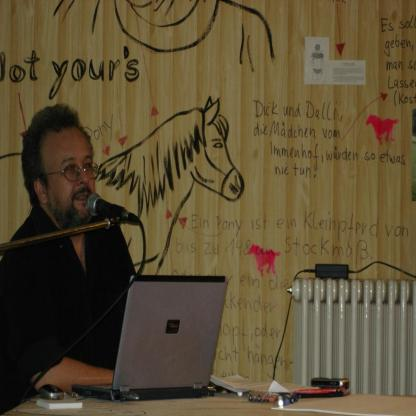board: (84, 280, 240, 409)
